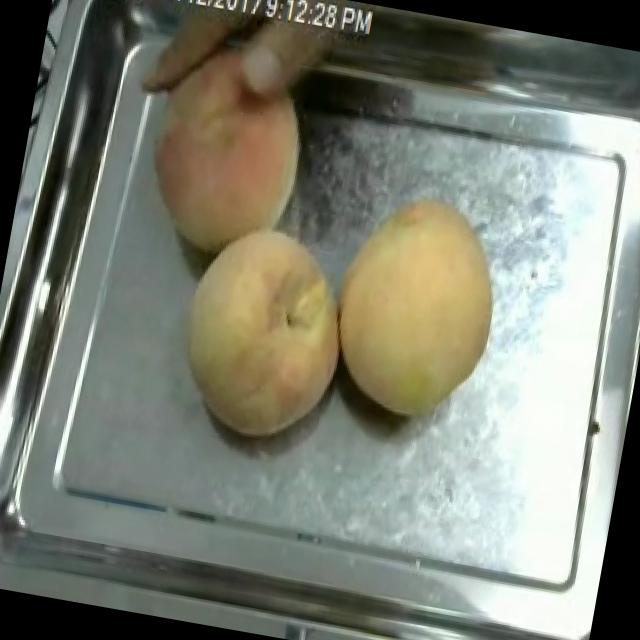Fruit: (116, 0, 342, 278), (312, 178, 520, 434), (158, 210, 366, 455)
